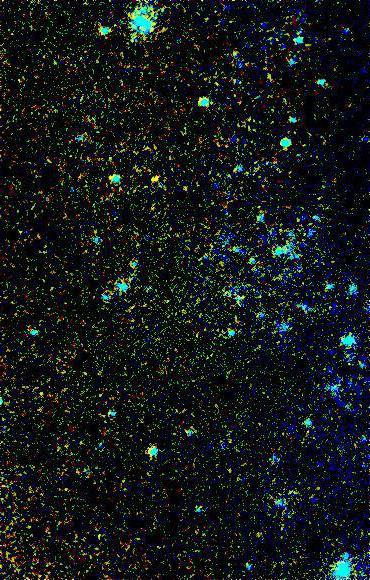star: (138, 166, 168, 196)
